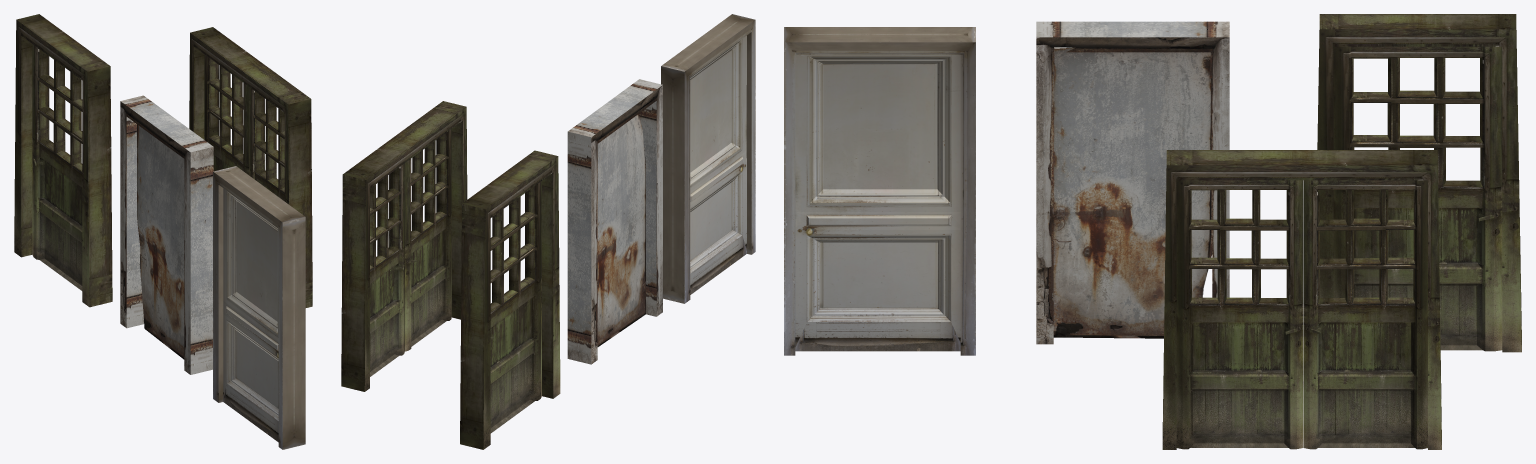
File: hospital_doors_p1.FBX
3 views of the same model, side by side, from view 1: azimuth 30°, elevation 25°; view 2: azimuth 150°, elevation 25°; view 3: azimuth 270°, elevation 25° (orthographic). The views are drawn at different scales.
Visible parts, largest first — view 1: door_01, door_03, door_04_d, door_04, door_01_d, door_03_d, door_02, door_02_d2, door_02_d1; view 2: door_01, door_03, door_04_d, door_02, door_04, door_01_d, door_03_d, door_02_d1, door_02_d2; view 3: door_04_d, door_03_d, door_01_d, door_02_d1, door_02_d2, door_02, door_01, door_03, door_04.
Part boxes in pixels (x1,y1,x2,y2): door_01: (14,14,112,307); door_03: (120,95,213,374); door_04_d: (223,188,278,442); door_04: (213,166,305,449); door_01_d: (32,44,82,290); door_03_d: (137,124,184,359); door_02: (189,27,312,307); door_02_d2: (204,54,249,175); door_02_d1: (250,88,284,200); door_01: (460,150,560,449); door_03: (567,79,662,364); door_04_d: (690,35,746,294); door_02: (341,101,467,391); door_04: (661,14,755,303); door_01_d: (490,181,541,433); door_03_d: (597,114,645,346); door_02_d1: (404,129,451,351); door_02_d2: (370,163,404,376); door_04_d: (795,54,960,351); door_03_d: (1053,47,1212,338); door_01_d: (1333,46,1502,351); door_02_d1: (1176,180,1303,449); door_02_d2: (1303,180,1427,449); door_02: (1162,150,1441,449); door_01: (1317,14,1521,352); door_03: (1036,21,1229,344); door_04: (784,27,975,355).
Bounding box in the file's own units: 63.35 × 83.75 × 172.
